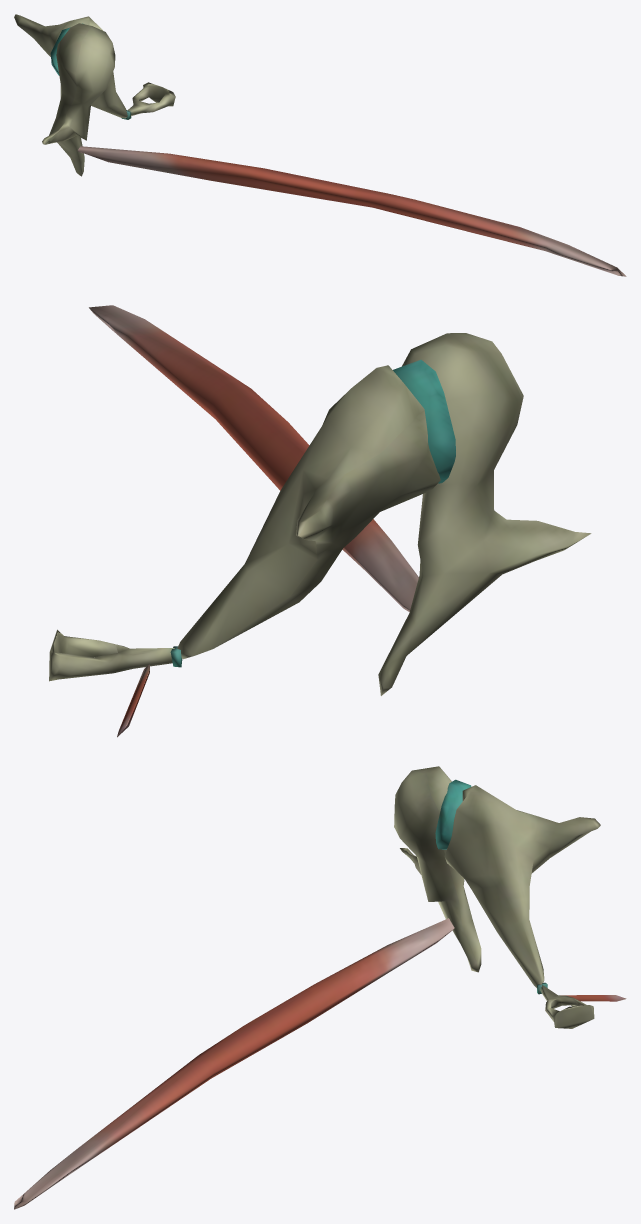
Rendered from ossicles.glb.
The picture shows the model from 3 angles, top to bottom: view 1: azimuth 30°, elevation 25°; view 2: azimuth 150°, elevation 25°; view 3: azimuth 270°, elevation 25°; orthographic projection. The views are drawn at different scales.
Parts seen in each view (by area): view 1: Right_tensor_tympani, Right_malleus, Right_incus, Right_stapes; view 2: Right_incus, Right_malleus, Right_tensor_tympani, Right_stapes, Right_incudomalleolar_joint; view 3: Right_incus, Right_tensor_tympani, Right_malleus, Right_stapes, Right_incudomalleolar_joint.
Part boxes in pixels (<box>): Right_tensor_tympani: <box>77,146,626,276</box>; Right_malleus: <box>42,23,115,176</box>; Right_incus: <box>14,14,127,118</box>; Right_stapes: <box>127,82,175,115</box>; Right_incus: <box>177,365,440,659</box>; Right_malleus: <box>378,333,591,695</box>; Right_tensor_tympani: <box>89,305,418,611</box>; Right_stapes: <box>49,629,174,681</box>; Right_incudomalleolar_joint: <box>393,359,455,483</box>; Right_incus: <box>444,785,600,987</box>; Right_tensor_tympani: <box>14,918,454,1209</box>; Right_malleus: <box>394,766,481,972</box>; Right_stapes: <box>540,985,594,1028</box>; Right_incudomalleolar_joint: <box>435,779,471,849</box>.
Size of the model in its own units: 0.0187 by 0.00882 by 0.0207.
Materials: 7 (7 with a texture image).
